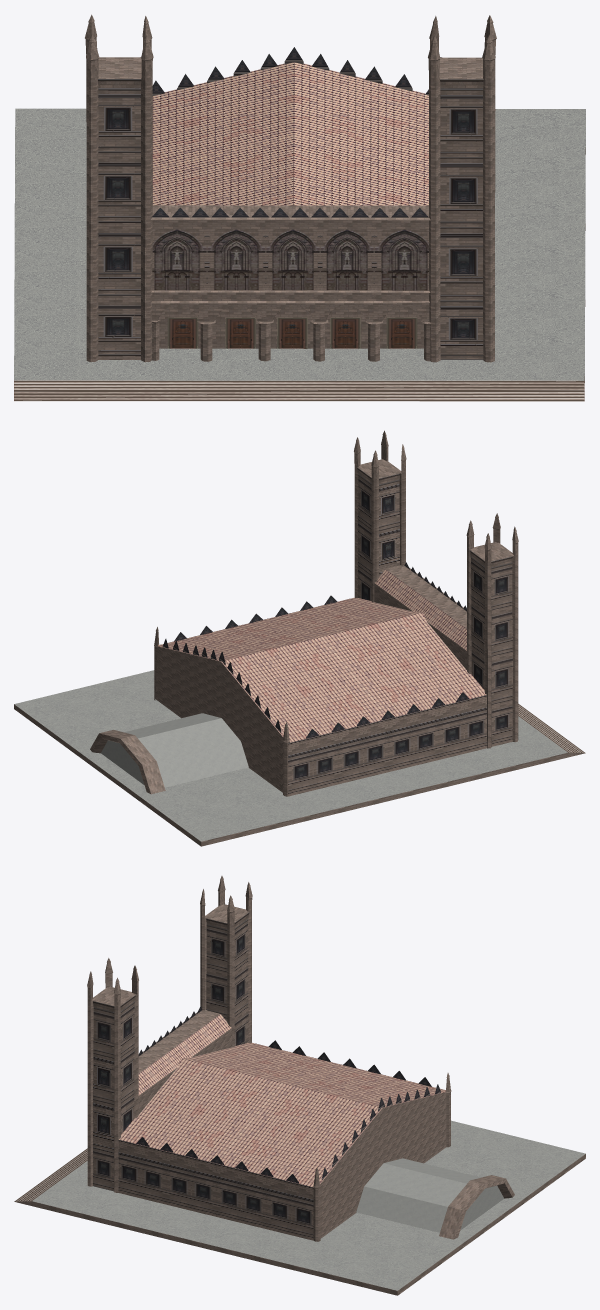
Rendered from Canada_track_landmark_07.dae.
3 renders of one model, top to bottom at view 1: azimuth 30°, elevation 25°; view 2: azimuth 150°, elevation 25°; view 3: azimuth 270°, elevation 25°, orthographic. The views are drawn at different scales.
Visible parts, largest first — view 1: Canada_track_landmark_07; view 2: Canada_track_landmark_07; view 3: Canada_track_landmark_07.
Part boxes in pixels (<box>): Canada_track_landmark_07: <box>14,14,585,401</box>; Canada_track_landmark_07: <box>14,430,585,846</box>; Canada_track_landmark_07: <box>14,876,585,1295</box>.
Bounding box in the file's own units: 20.29 × 21.21 × 8.97.
3 materials, 3 textured.
